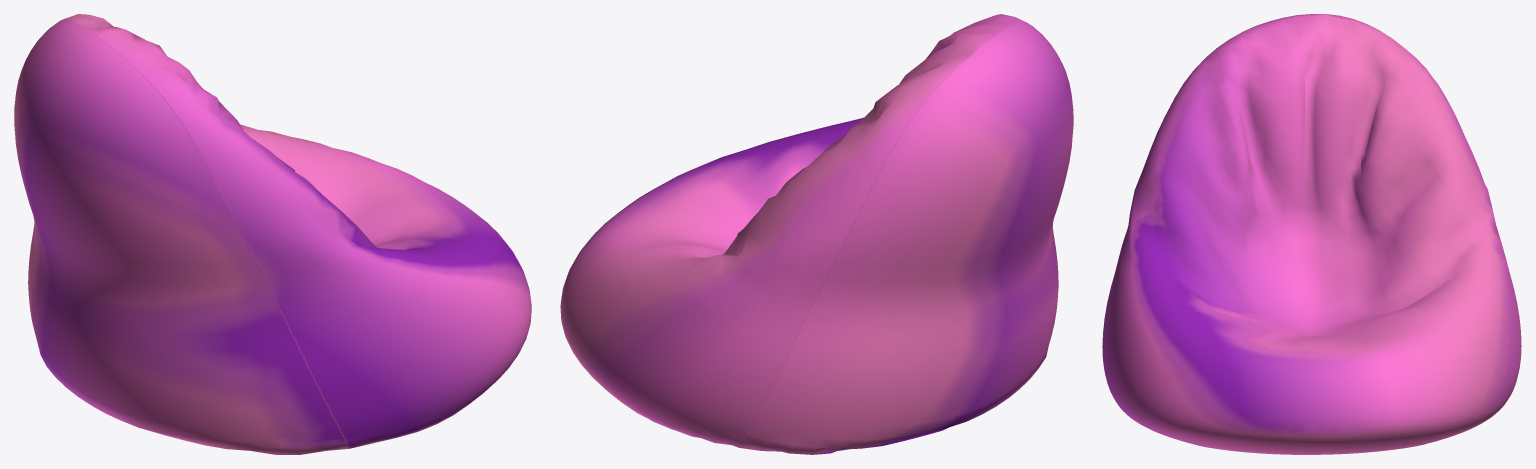
The model's file is PillowChair.fbx.
3 views of the same model, side by side, from view 1: azimuth 30°, elevation 25°; view 2: azimuth 150°, elevation 25°; view 3: azimuth 270°, elevation 25° (orthographic). The views are drawn at different scales.
Parts seen in each view (by area): view 1: Red; view 2: Red; view 3: Red.
Part boxes in pixels (x1,y1,x2,y2): Red: (14,14,531,454); Red: (560,14,1073,454); Red: (1102,14,1521,454).
Size of the model in its own units: 249 by 191 by 239.
Materials: 1 (1 with a texture image).
